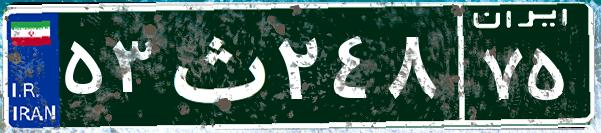2: (273, 28, 330, 110)
3: (110, 28, 158, 105)
4: (330, 28, 385, 110)
5: (57, 26, 110, 107), (525, 38, 570, 115)
7: (475, 38, 525, 113)
8: (385, 28, 445, 110)
ث: (158, 15, 273, 115)
